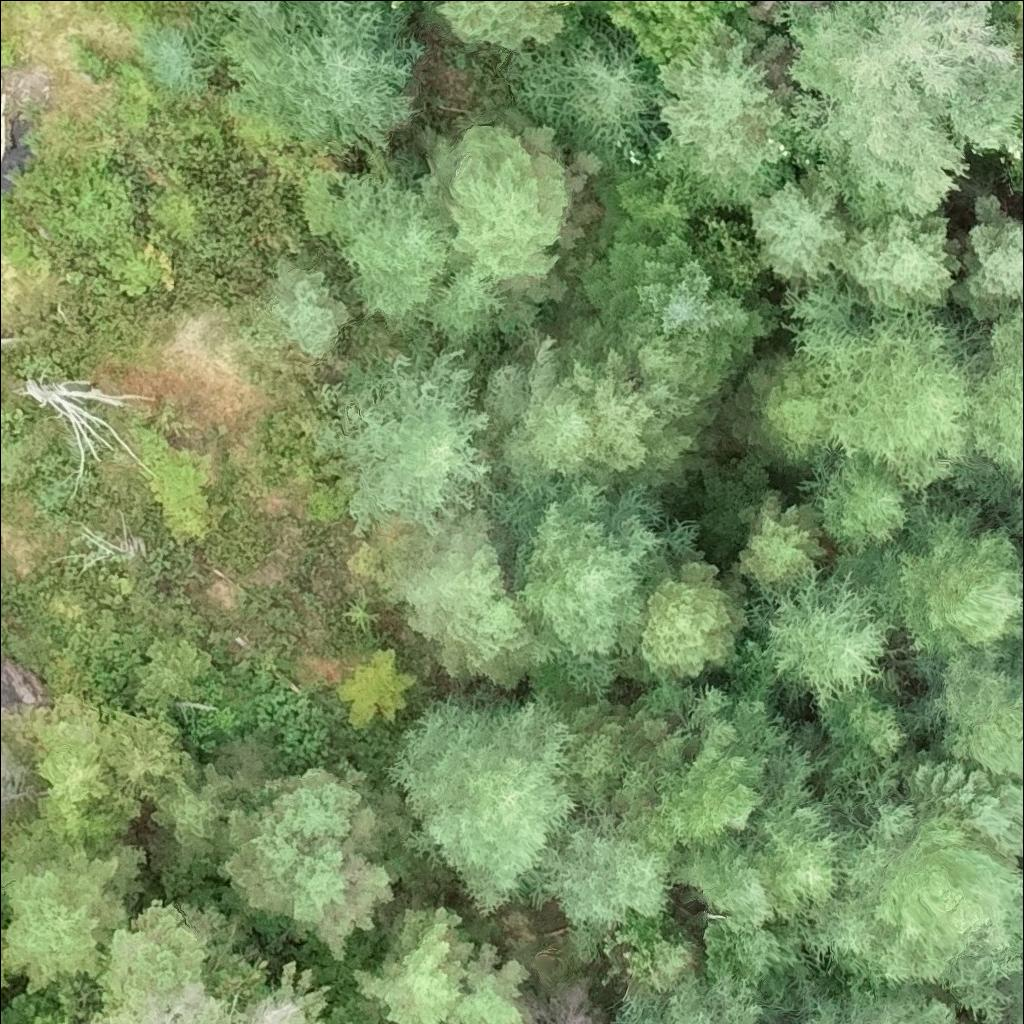crown: (802, 766, 1023, 1023), (779, 0, 1023, 222), (783, 264, 988, 491), (507, 485, 704, 699), (391, 694, 578, 915), (200, 0, 427, 160), (316, 340, 491, 535), (586, 233, 761, 401), (651, 687, 785, 863), (753, 747, 868, 927), (892, 507, 1023, 663), (331, 169, 464, 319), (441, 123, 567, 280), (0, 842, 132, 989), (477, 335, 595, 496), (511, 35, 660, 156), (768, 567, 898, 700), (656, 38, 783, 171), (563, 348, 698, 473), (263, 841, 397, 962), (539, 817, 673, 937), (921, 651, 1023, 795), (353, 906, 473, 1023), (405, 513, 508, 642), (113, 962, 330, 1023), (641, 560, 747, 684), (99, 904, 210, 1017), (960, 300, 1023, 494), (845, 215, 956, 310), (803, 452, 908, 552), (750, 180, 854, 280), (218, 806, 315, 911), (672, 839, 778, 934), (658, 133, 780, 207), (273, 770, 380, 852), (443, 595, 534, 688), (739, 495, 825, 587), (273, 259, 352, 358), (613, 972, 764, 1023), (821, 690, 911, 769), (427, 254, 507, 340), (333, 647, 415, 726), (141, 15, 216, 101), (149, 768, 232, 843), (436, 0, 564, 47), (460, 943, 531, 1023), (746, 367, 823, 436), (807, 987, 954, 1023), (969, 223, 1023, 304), (1013, 495, 1023, 541), (1015, 0, 1023, 42), (1015, 641, 1023, 678), (392, 0, 418, 10), (1019, 1008, 1023, 1023)
